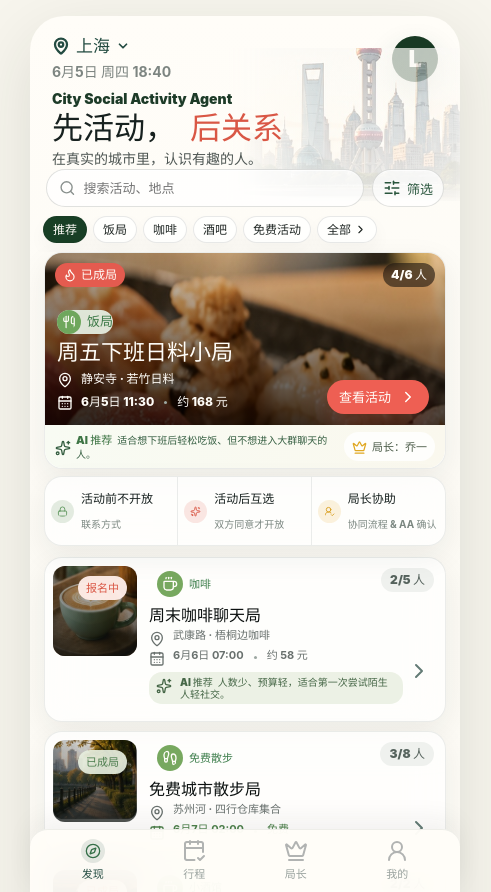
Test case: App signup flow › confirms signup rules and opens itinerary
What coordinates should you click on to do the following:
click the button with aria-label "查看 周五下班日料小局"
I would click on:
 (378, 397)
Its box is 327,380 -> 429,414.
(page scrolled)
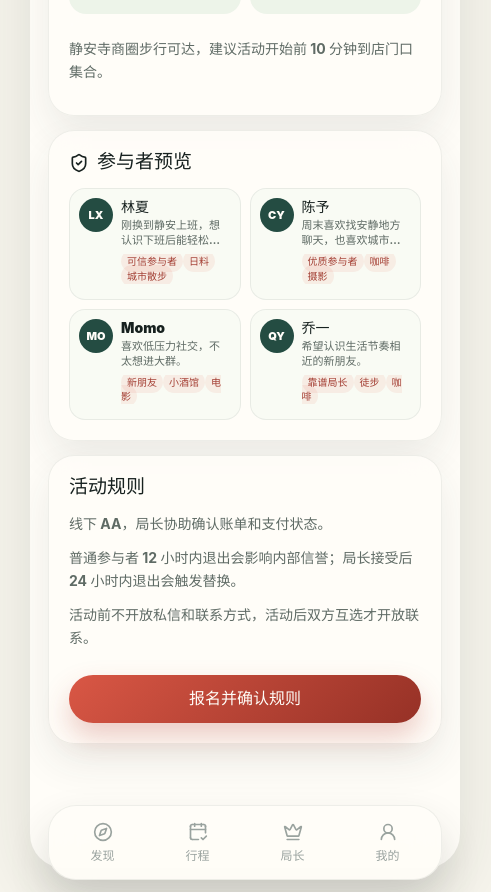
What coordinates should you click on to do the following:
click the button "报名并确认规则"
I would click on:
 (245, 699)
Its box is 69,675 -> 421,723.
(page scrolled)
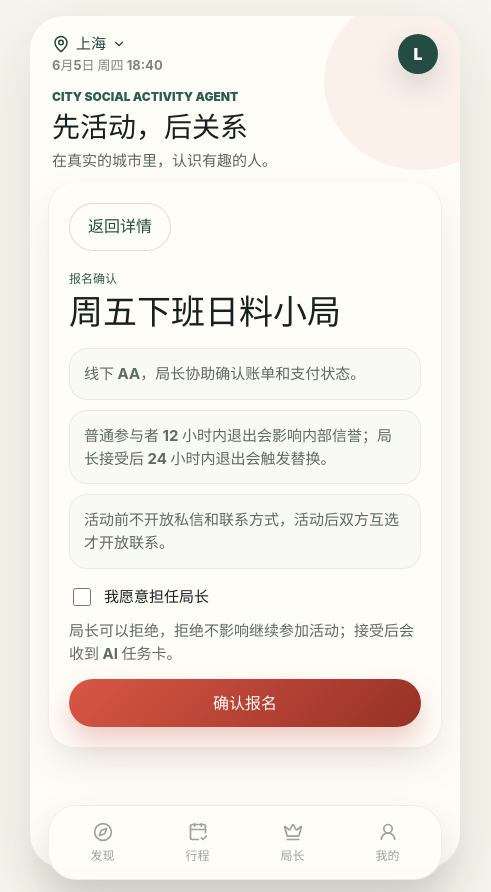
What coordinates should you click on to do the following:
click the checkbox labelled "我愿意担任局长"
I would click on:
 (82, 597)
Its box is 73,588 -> 91,606.
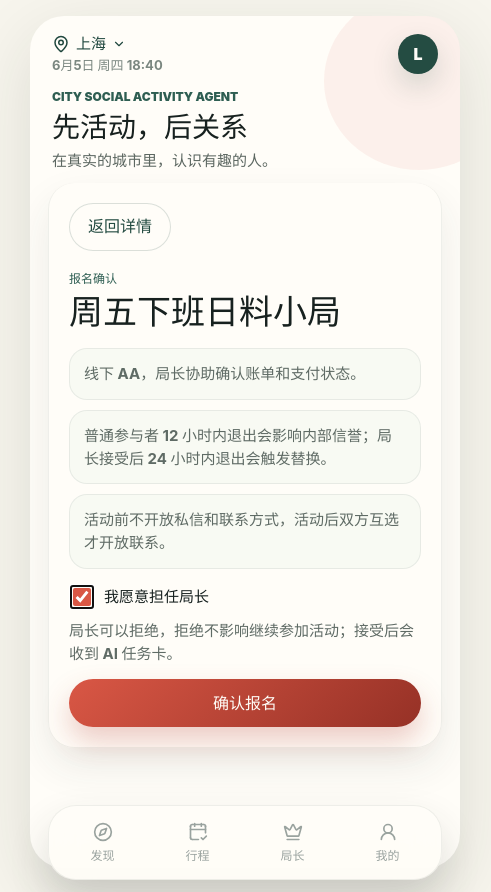
What coordinates should you click on to do the following:
click the button "确认报名"
I would click on:
 (245, 703)
Its box is 69,679 -> 421,727.
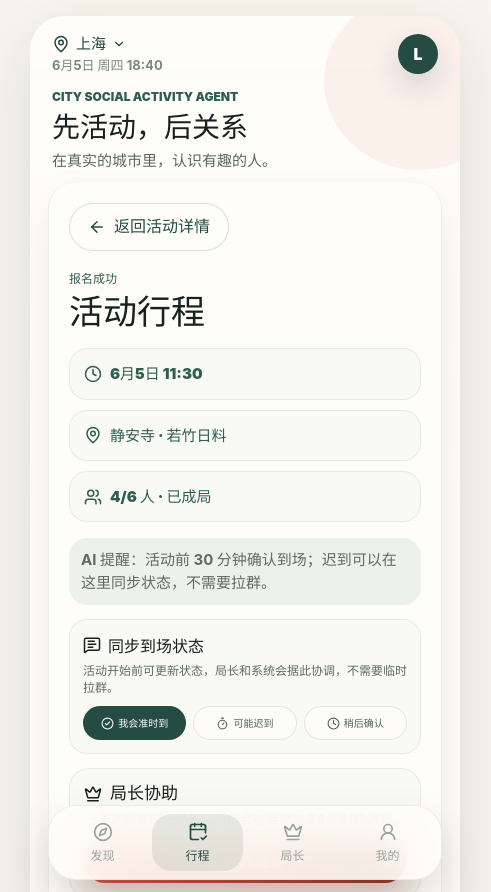
Result: the heading "活动行程" is shown at 69,291 -> 205,332
Result: the text "已勾选愿意担任局长，系统会在活动前 24 小时内选择。" is shown at 84,810 -> 406,829
